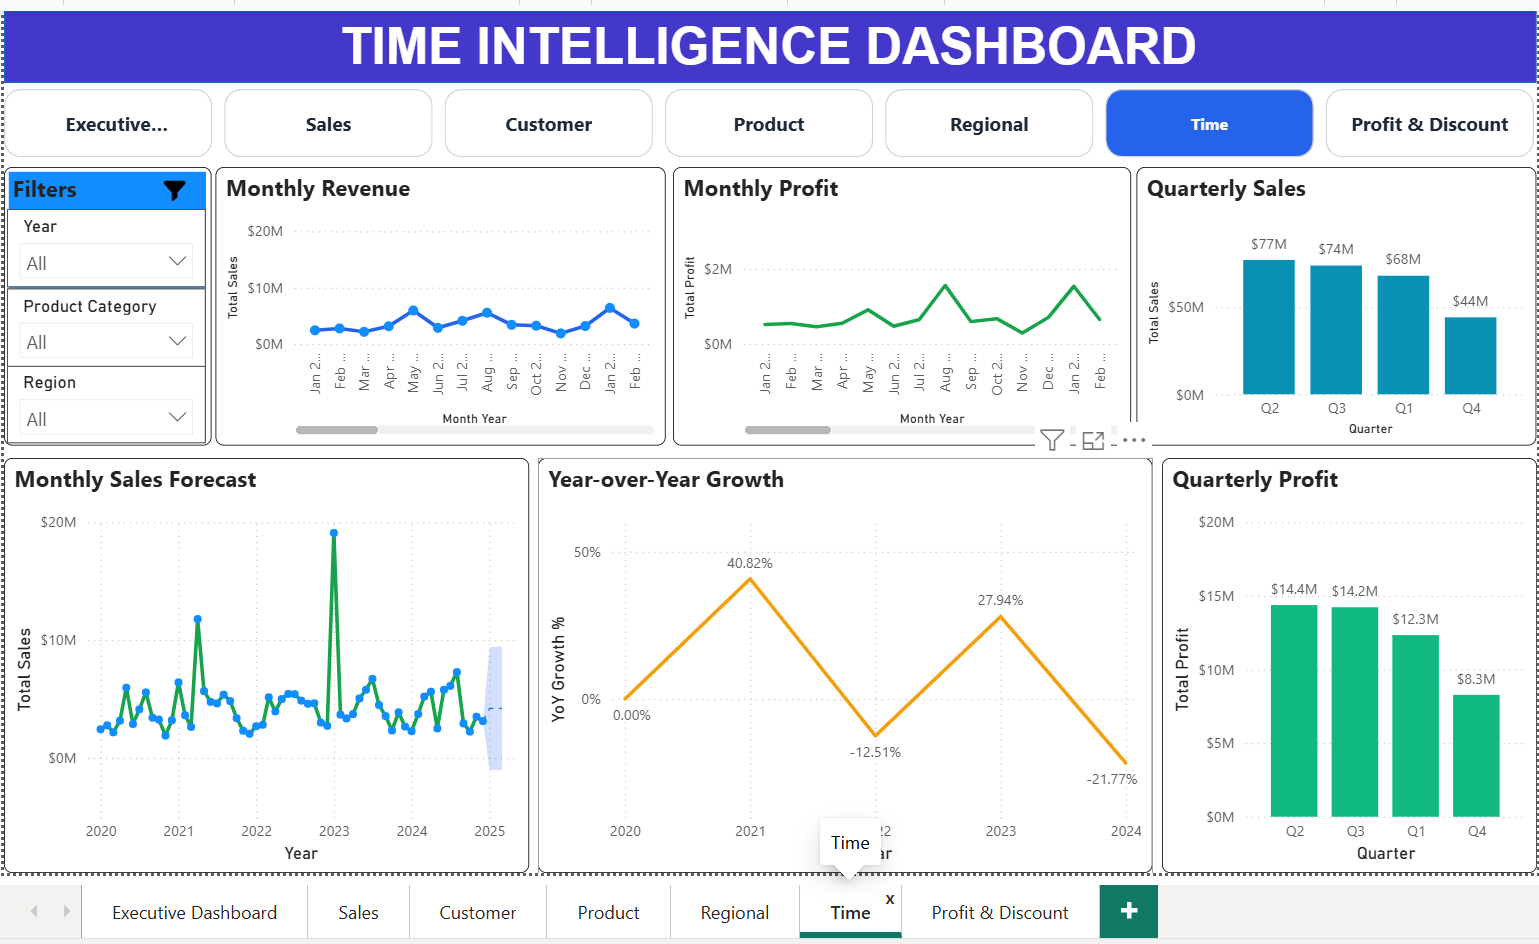

The dashboard page shown, as its layout file describes it:
{"tool":"powerbi","page":{"name":"Time","canvas":[1280,720],"ordinal":5},"visuals":[{"type":"shape","box":[0,0,1280,60],"z":0},{"type":"textbox","box":[253.3,0,771.7,60],"z":1000},{"type":"lineChart","title":"Monthly Revenue","fields":{"Category":["DateTable.Month Year"],"Y":["Measures (2).Total Sales"]},"box":[177.1,130,375.7,232.9],"z":2000},{"type":"shape","box":[0,130,173,232.9],"z":3000},{"type":"slicer","title":"Year","fields":{"Values":["DateTable.Year"]},"box":[2.9,165.7,166,65],"z":4000},{"type":"textbox","box":[0,130,68,36],"z":5000},{"type":"image","box":[117.1,138.6,51.7,21],"z":6000},{"type":"lineChart","title":"Monthly Profit","fields":{"Category":["DateTable.Month Year"],"Y":["Measures (2).Total Profit"]},"box":[558.6,130,382.9,232.9],"z":7000},{"type":"clusteredColumnChart","title":"Quarterly Sales","fields":{"Category":["DateTable.Quarter"],"Y":["Measures (2).Total Sales"]},"box":[945.7,130,334.3,232.9],"z":8000},{"type":"clusteredColumnChart","title":"Quarterly Profit","fields":{"Category":["DateTable.Quarter"],"Y":["Measures (2).Total Profit"]},"box":[966.7,373.3,313.3,346.7],"z":9000},{"type":"lineChart","title":"Year-over-Year Growth","fields":{"Category":["DateTable.Year"],"Y":["Measures (2).YoY Growth %"]},"box":[445.8,373.3,513.3,346.7],"z":10000},{"type":"lineChart","title":"Monthly Sales Forecast","fields":{"Category":["DateTable.Date.Variation.Date Hierarchy.Year","DateTable.Date.Variation.Date Hierarchy.Month"],"Y":["Measures (2).Total Sales"]},"box":[0,373.3,438.3,346.7],"z":11000},{"type":"slicer","title":"Region","fields":{"Values":["retail_sales_final.region"]},"box":[2.9,295.7,166,65],"z":12000},{"type":"slicer","title":"Category","fields":{"Values":["retail_sales_final.product_category"]},"box":[2.9,231.4,166,65],"z":13000},{"type":"pageNavigator","box":[0,65.7,1280,57.1],"z":13001}]}

Visuals, with their boxes on the page's 1280x720 design canvas (x1, y1, x2, y2). These are canvas units, not pixel positions in the 1539x944 screenshot, which may show the page scaled, cropped or inside an application window:
shape: [0, 0, 1280, 60]
textbox: [253, 0, 1025, 60]
"Monthly Revenue" lineChart: [177, 130, 553, 363]
shape: [0, 130, 173, 363]
"Year" slicer: [3, 166, 169, 231]
textbox: [0, 130, 68, 166]
image: [117, 139, 169, 160]
"Monthly Profit" lineChart: [559, 130, 942, 363]
"Quarterly Sales" clusteredColumnChart: [946, 130, 1280, 363]
"Quarterly Profit" clusteredColumnChart: [967, 373, 1280, 720]
"Year-over-Year Growth" lineChart: [446, 373, 959, 720]
"Monthly Sales Forecast" lineChart: [0, 373, 438, 720]
"Region" slicer: [3, 296, 169, 361]
"Category" slicer: [3, 231, 169, 296]
pageNavigator: [0, 66, 1280, 123]
